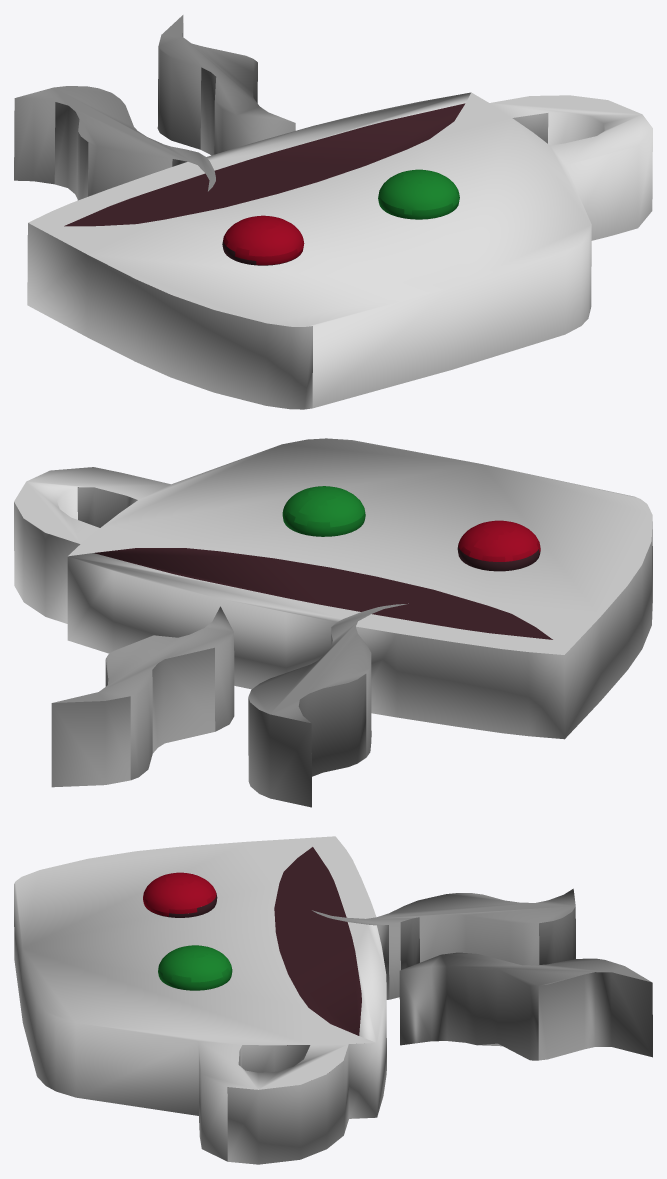
File: cup.glb
3 views of the same model, one above another, from view 1: azimuth 30°, elevation 25°; view 2: azimuth 150°, elevation 25°; view 3: azimuth 270°, elevation 25° (orthographic). The views are drawn at different scales.
Parts seen in each view (by area): view 1: Circle.001, Circle.021, Sphere.002, Sphere.017; view 2: Circle.021, Circle.001, Sphere.017, Sphere.002; view 3: Circle.001, Circle.021, Sphere.002, Sphere.017.
Part boxes in pixels (x1=…): Circle.001: x1=14, y1=15, x2=652, y2=408; Circle.021: x1=14, y1=23, x2=548, y2=409; Sphere.002: x1=378, y1=169, x2=459, y2=219; Sphere.017: x1=222, y1=215, x2=304, y2=265; Circle.021: x1=14, y1=487, x2=652, y2=807; Circle.001: x1=14, y1=438, x2=652, y2=780; Sphere.017: x1=457, y1=520, x2=540, y2=571; Sphere.002: x1=282, y1=486, x2=365, y2=536; Circle.001: x1=14, y1=836, x2=651, y2=1161; Circle.021: x1=227, y1=847, x2=652, y2=1164; Sphere.002: x1=158, y1=945, x2=232, y2=990; Sphere.017: x1=143, y1=872, x2=217, y2=917.
Bounding box in the file's own units: 1.15 × 0.2116 × 1.23.
